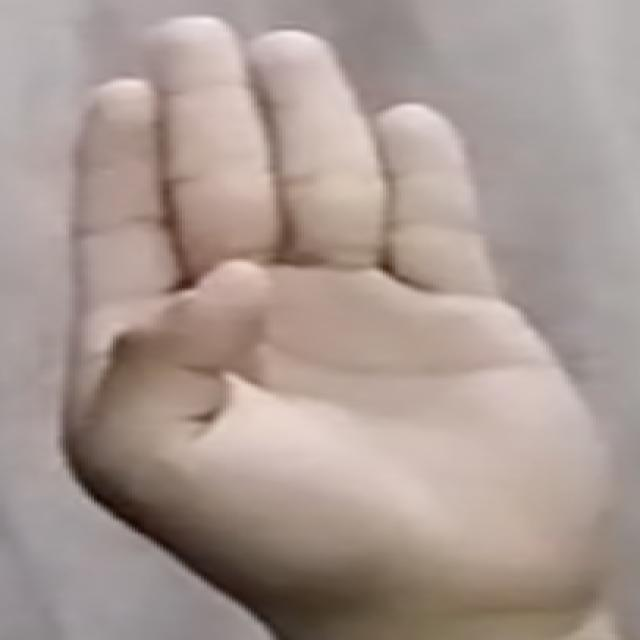B: (57, 10, 624, 628)
